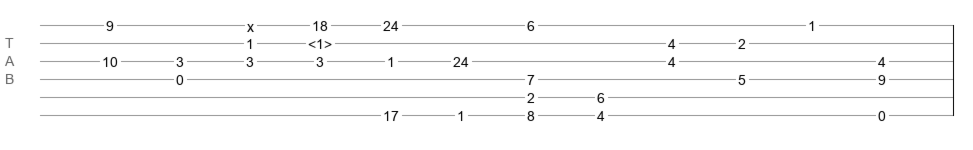0: (176, 72, 184, 82), (878, 108, 886, 118)
1: (246, 36, 254, 46), (387, 54, 395, 64), (457, 108, 465, 118), (808, 18, 816, 28)
10: (102, 54, 118, 64)
17: (383, 108, 399, 118)
18: (312, 18, 328, 28)
2: (527, 90, 535, 100), (738, 36, 746, 46)
24: (383, 18, 399, 28), (453, 54, 469, 64)
3: (176, 54, 184, 64), (246, 54, 254, 64), (316, 54, 324, 64)
4: (597, 108, 605, 118), (668, 36, 676, 46), (668, 54, 676, 64), (878, 54, 886, 64)
5: (738, 72, 746, 82)
6: (527, 18, 535, 28), (597, 90, 605, 100)
7: (527, 72, 535, 82)
8: (527, 108, 535, 118)
9: (106, 18, 114, 28), (878, 72, 886, 82)
harmonic: (308, 36, 332, 46)
x: (247, 19, 254, 27)
